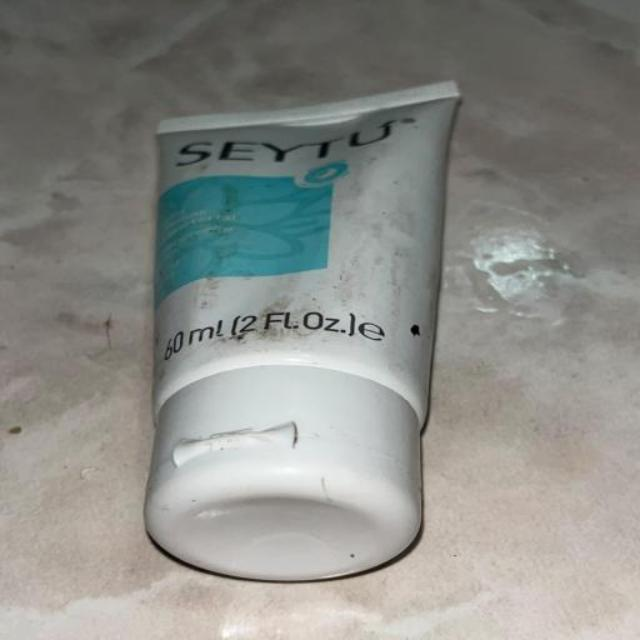HDPE: (83, 66, 546, 591)
